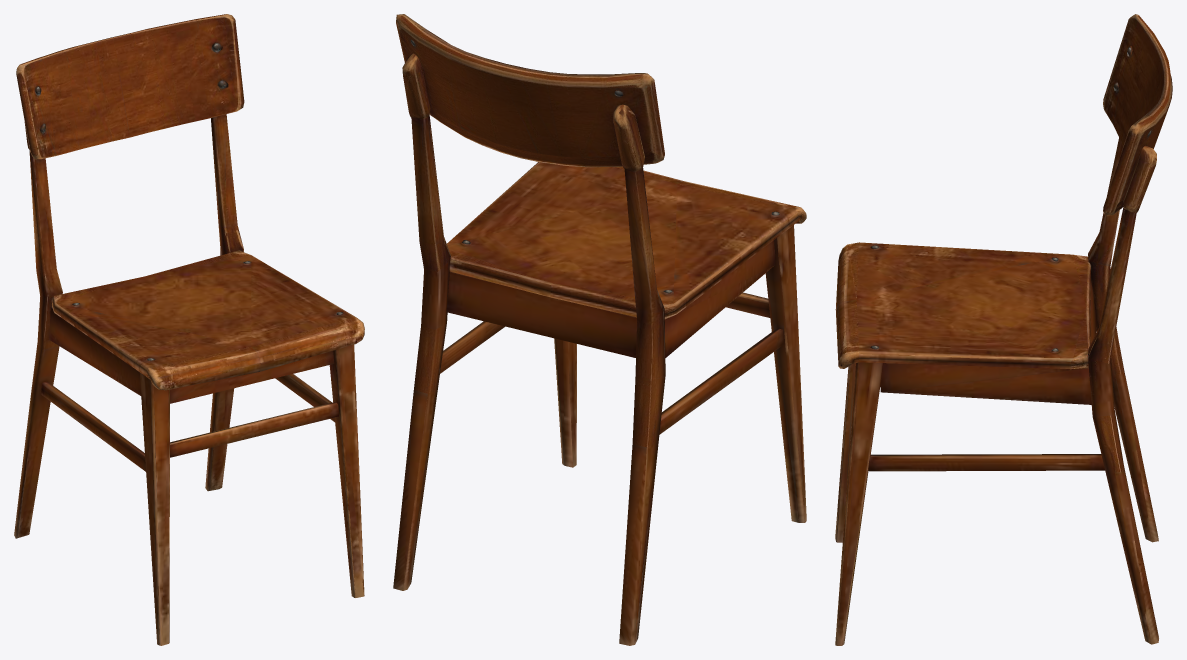
File: chair.glb
The picture shows the model from 3 angles, left to right: view 1: azimuth 30°, elevation 25°; view 2: azimuth 150°, elevation 25°; view 3: azimuth 270°, elevation 25°; orthographic projection. The views are drawn at different scales.
Visible parts, largest first — view 1: Mesh_0; view 2: Mesh_0; view 3: Mesh_0.
Boxes of the visible parts, <box> form: Mesh_0: <box>14,14,364,645</box>; Mesh_0: <box>393,14,806,645</box>; Mesh_0: <box>835,14,1172,645</box>.
Size of the model in its own units: 0.4283 by 0.9 by 0.5276.
Materials: 1 (1 with a texture image).
